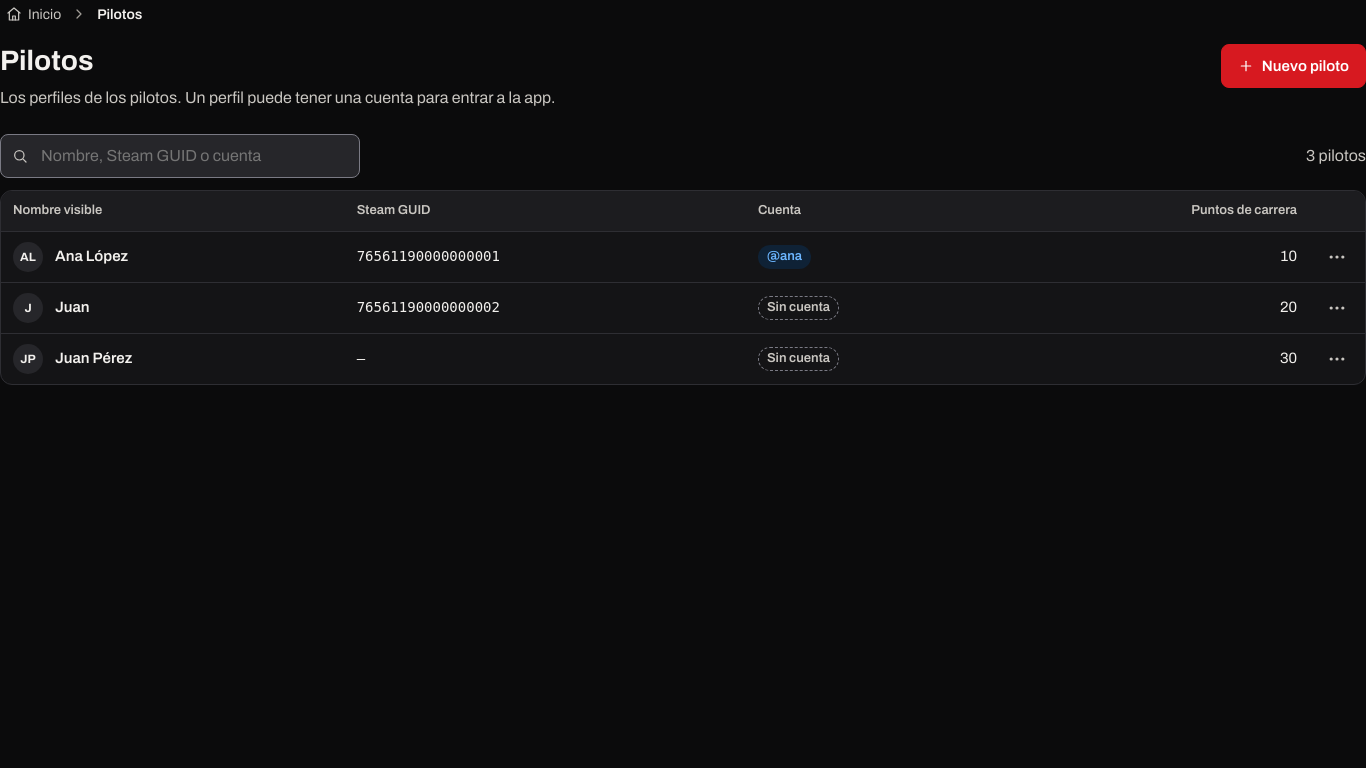
Test: DriversPage merge › swaps the profile that stays
Click the button named "Acciones de Juan Pérez". click: x=1337, y=358
box: [1321, 336, 1353, 380]
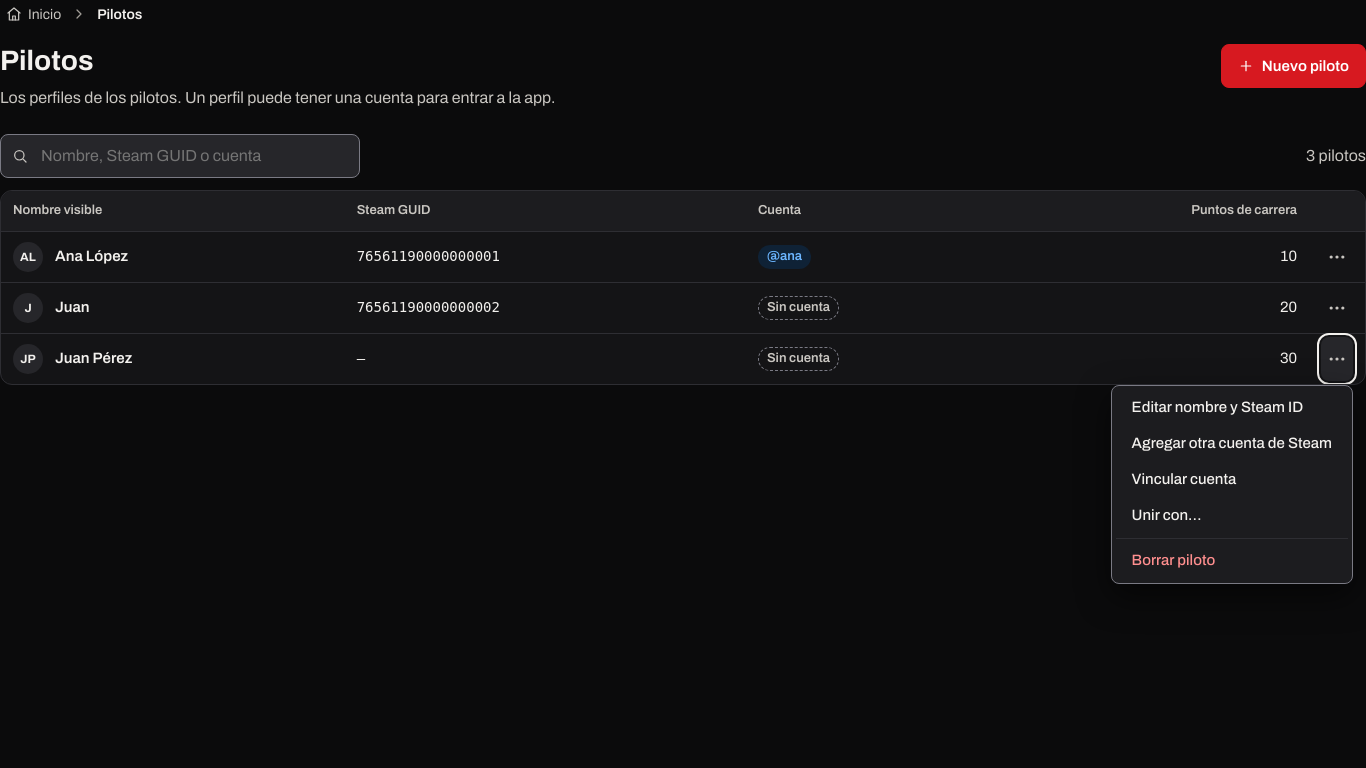
Click the button "Unir con…". click: x=1232, y=516
box: [1116, 498, 1348, 534]
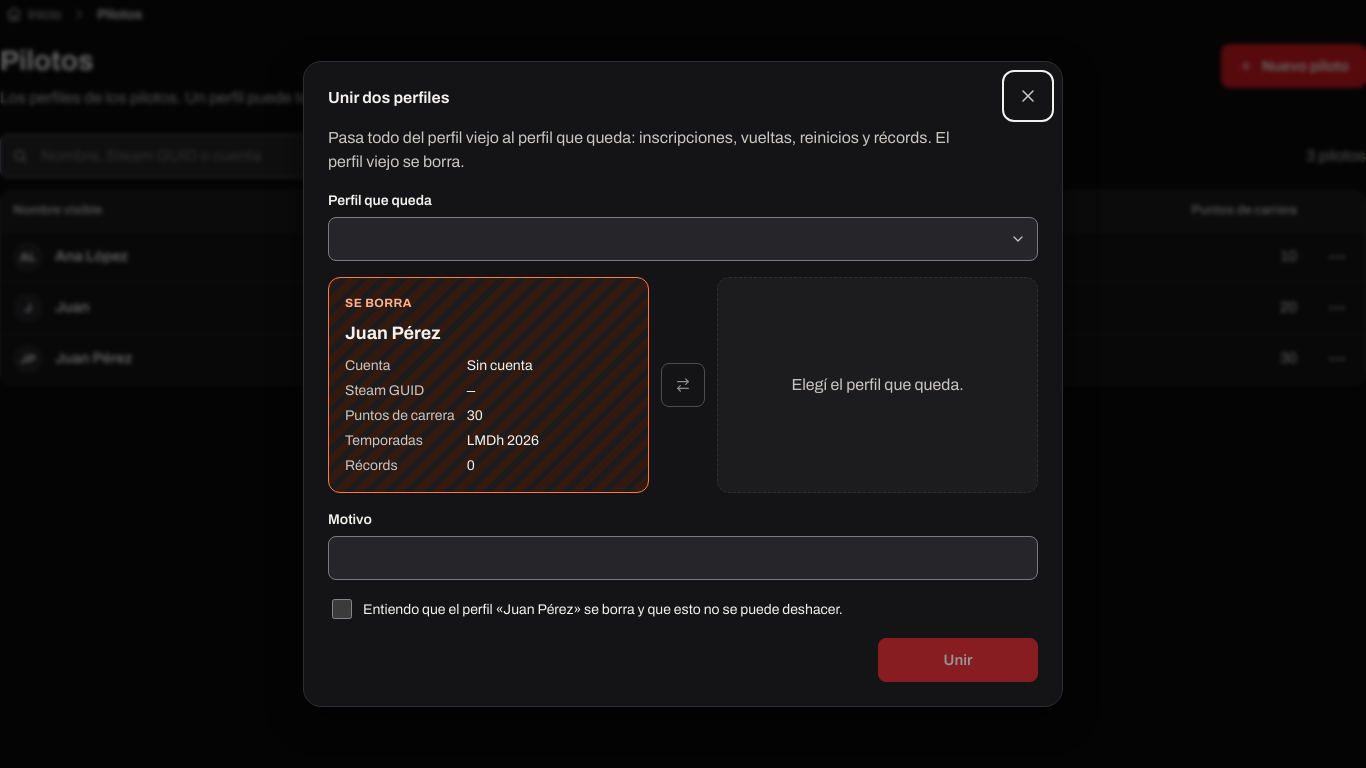
Click the dropdown labelled "Perfil que queda". click: x=683, y=239
box: [328, 217, 1038, 261]
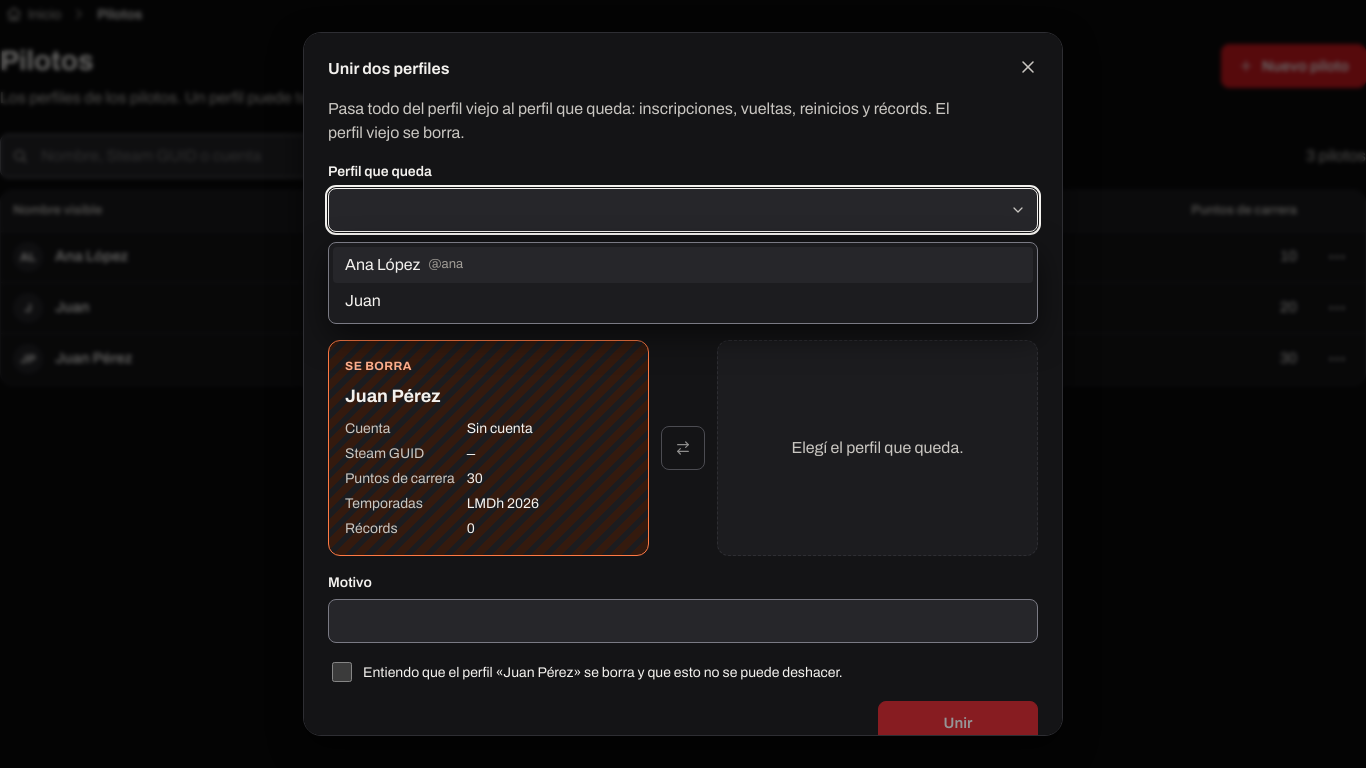
Click the option "Juan". click: x=363, y=300
box: [345, 292, 381, 309]
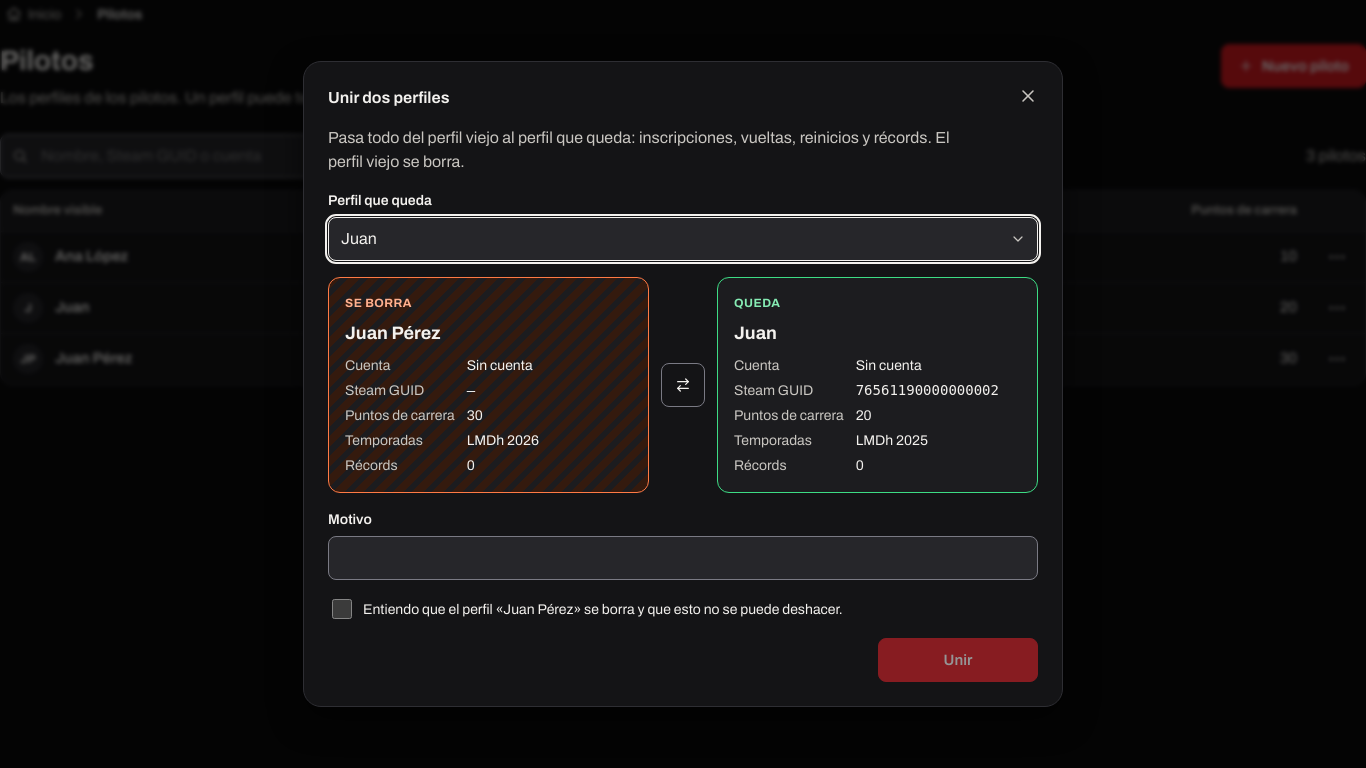
Click the button named "Invertir". click: x=683, y=385
box: [661, 363, 705, 407]
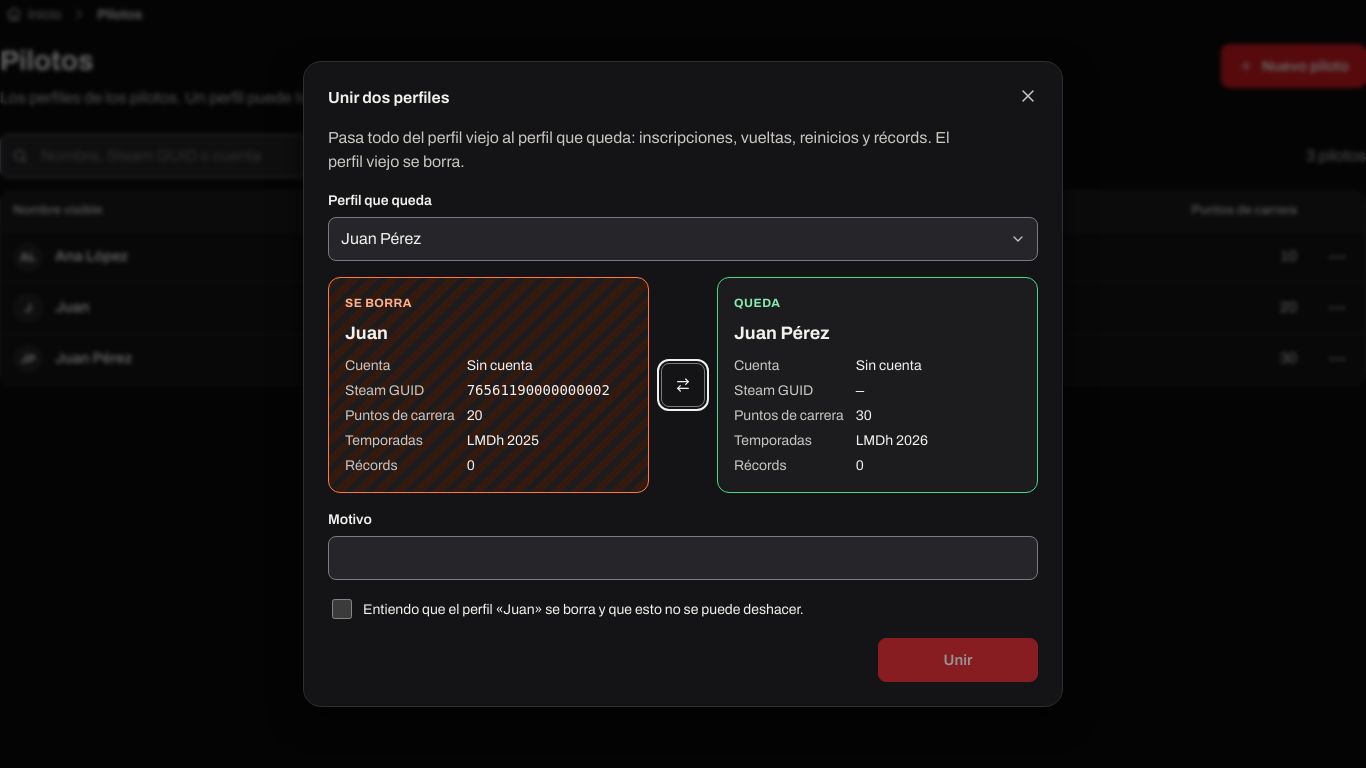
Check: the element named "Se borra: Juan" is shown, box [328, 277, 649, 493]
Check: the element named "Queda: Juan Pérez" is shown, box [717, 277, 1038, 493]
